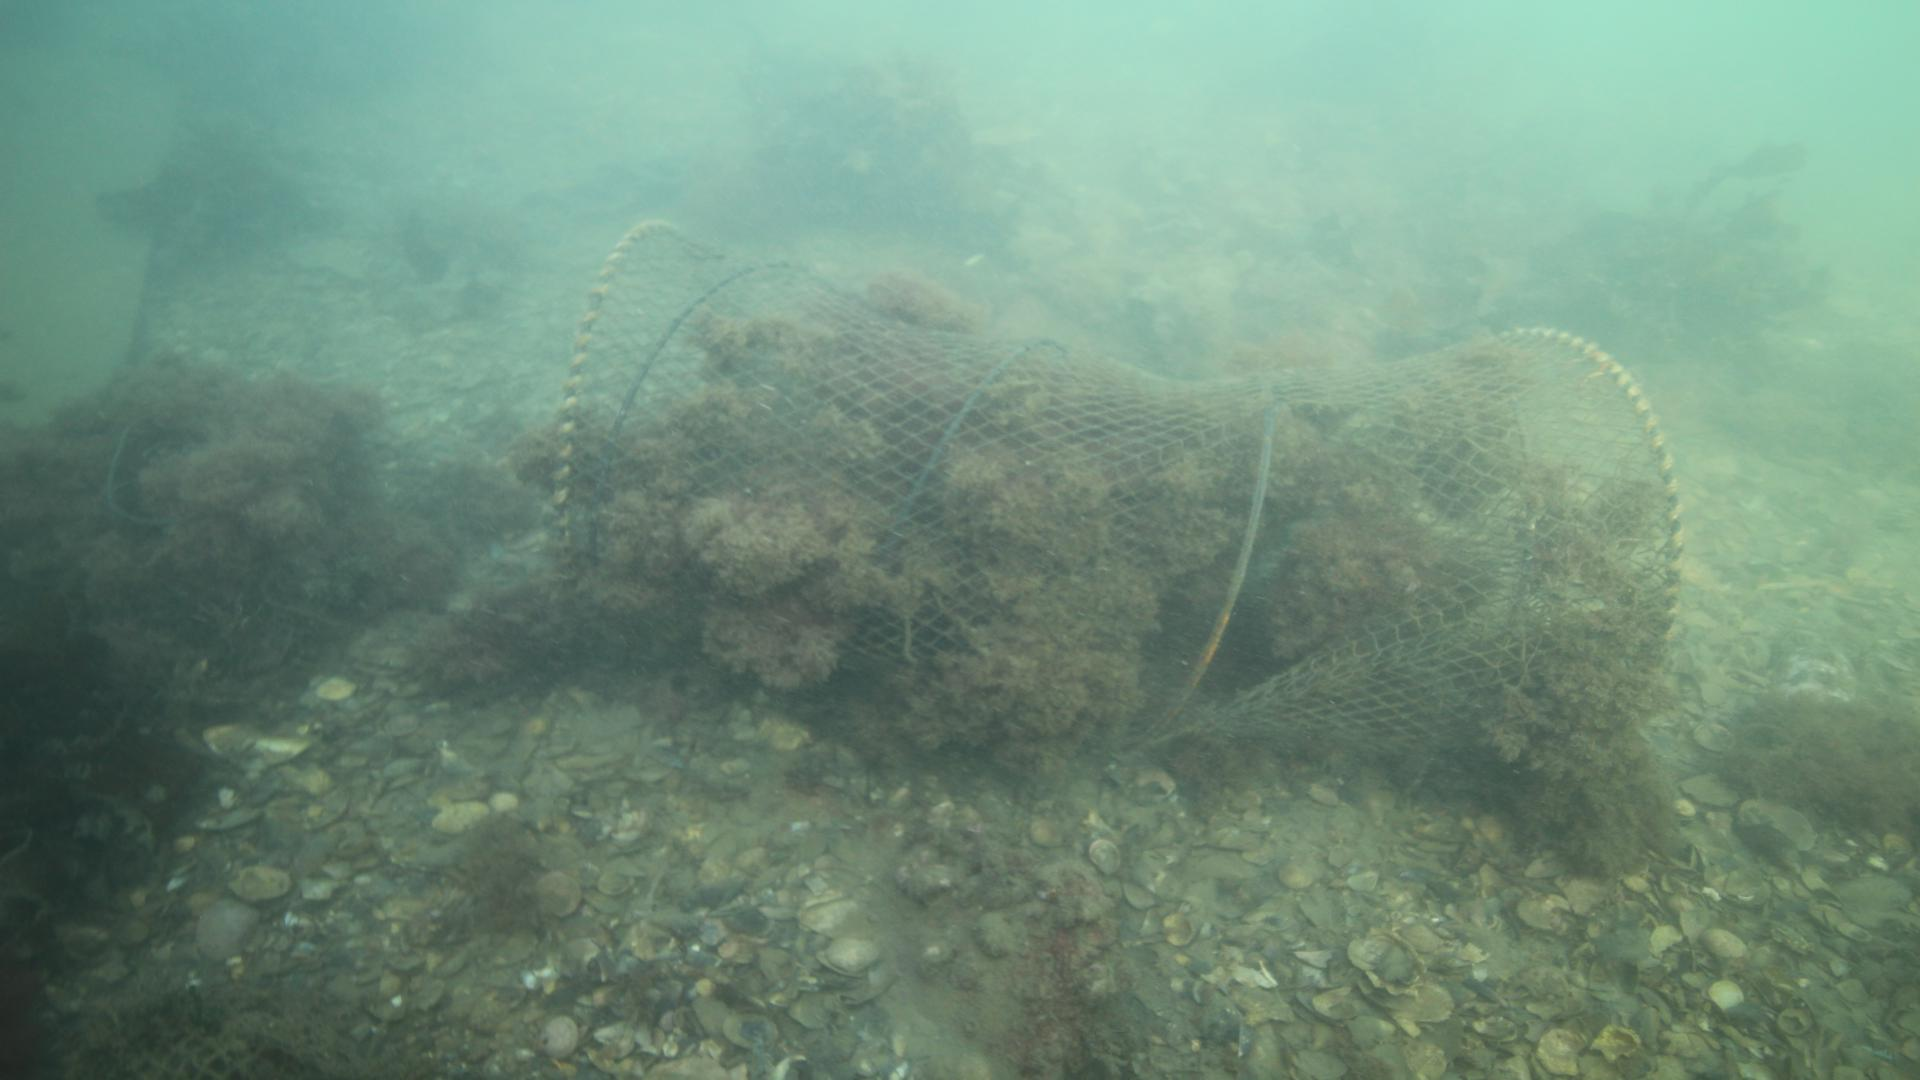spring fish trap: (551, 218, 1683, 799)
